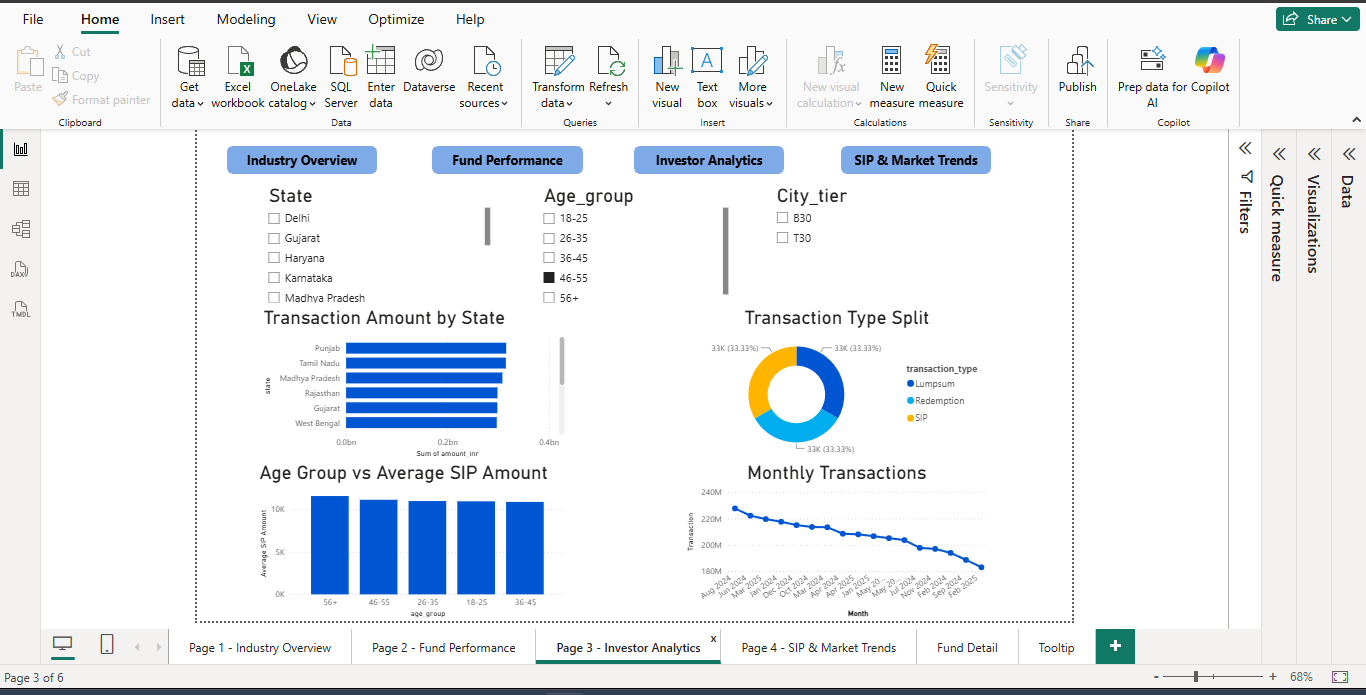

The dashboard page shown, as its layout file describes it:
{"tool":"powerbi","page":{"name":"Page 3 - Investor Analytics","canvas":[1280,720],"ordinal":2},"visuals":[{"type":"slicer","fields":{"Values":["08_investor_transactions.state"]},"box":[92.2,76.1,342.4,182.9],"z":0},{"type":"slicer","fields":{"Values":["08_investor_transactions.age_group"]},"box":[494.6,76.1,288.3,182.9],"z":1000},{"type":"slicer","fields":{"Values":["investor_transaction_cleaned.city_tier"]},"box":[835.6,76.1,326.3,177.1],"z":2000},{"type":"clusteredBarChart","title":"Transaction Amount by State","fields":{"Category":["investor_transaction_cleaned.state"],"Y":["Sum(investor_transaction_cleaned.amount_inr)"]},"box":[92.2,259,450.7,226.8],"z":3000},{"type":"donutChart","title":"Transaction Type Split","fields":{"Category":["08_investor_transactions.transaction_type"],"Y":["Measures .Count transaction_type"]},"box":[711.2,259,450.7,226.8],"z":4000},{"type":"clusteredColumnChart","title":"Age Group vs Average SIP Amount","fields":{"Y":["Measures .Average SIP Amount"],"Category":["investor_transaction_cleaned.age_group"]},"box":[86.3,485.9,456.6,234.1],"z":5000},{"type":"lineChart","title":"Monthly Transactions","fields":{"Category":["investor_transaction_cleaned.Month Column"],"Y":["Measures .Monthly Transactions"]},"box":[711.2,485.9,450.7,234.1],"z":6000},{"type":"actionButton","title":"Industry Overview","box":[43.9,24.9,219.5,41],"z":7000},{"type":"actionButton","box":[343.9,24.9,221,41],"z":8000},{"type":"actionButton","box":[639.5,24.9,219.5,41],"z":9000},{"type":"actionButton","box":[942.4,24.9,219.5,41],"z":10000}]}

Visuals, with their boxes on the page's 1280x720 design canvas (x1, y1, x2, y2). These are canvas units, not pixel positions in the 1366x695 screenshot, which may show the page scaled, cropped or inside an application window:
slicer - 08_investor_transactions.state: locate(92, 76, 435, 259)
slicer - 08_investor_transactions.age_group: locate(495, 76, 783, 259)
slicer - investor_transaction_cleaned.city_tier: locate(836, 76, 1162, 253)
"Transaction Amount by State" clusteredBarChart: locate(92, 259, 543, 486)
"Transaction Type Split" donutChart: locate(711, 259, 1162, 486)
"Age Group vs Average SIP Amount" clusteredColumnChart: locate(86, 486, 543, 720)
"Monthly Transactions" lineChart: locate(711, 486, 1162, 720)
"Industry Overview" actionButton: locate(44, 25, 263, 66)
actionButton: locate(344, 25, 565, 66)
actionButton: locate(640, 25, 859, 66)
actionButton: locate(942, 25, 1162, 66)
